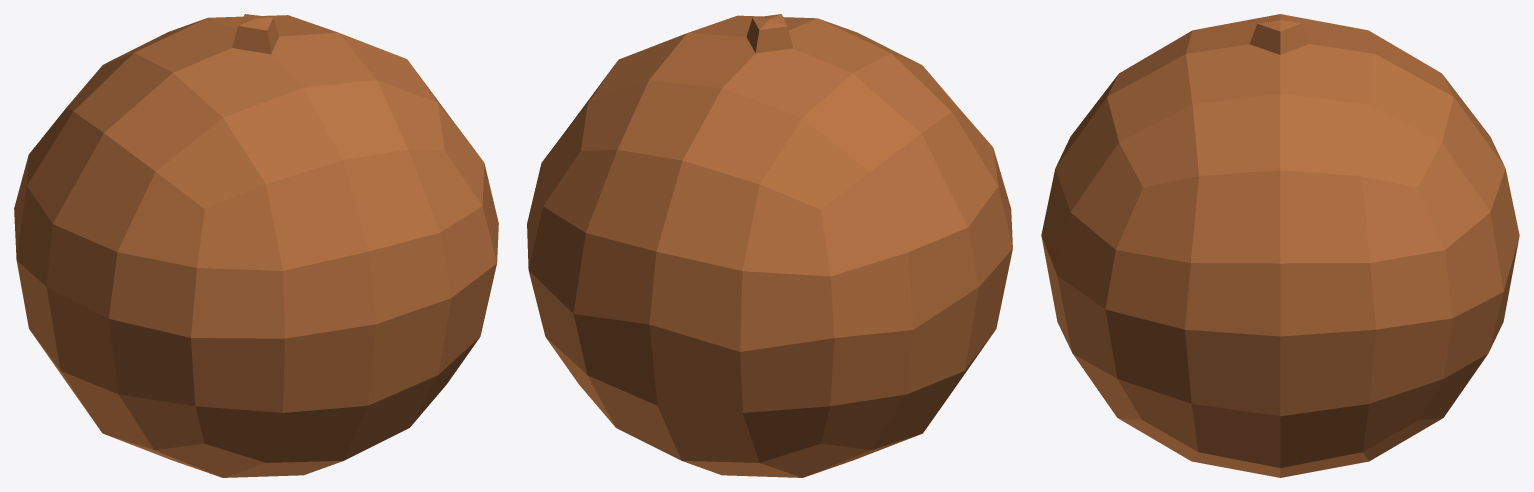
The model's file is Orange.gltf.
The picture shows the model from 3 angles, left to right: view 1: azimuth 30°, elevation 25°; view 2: azimuth 150°, elevation 25°; view 3: azimuth 270°, elevation 25°; orthographic projection.
Visible parts, largest first — view 1: Orange; view 2: Orange; view 3: Orange.
Part boxes in pixels (x1,y1,x2,y2): Orange: (14, 14, 498, 477); Orange: (527, 14, 1012, 477); Orange: (1041, 14, 1519, 477).
Bounding box in the file's own units: 0.7449 × 0.7424 × 0.7449.
